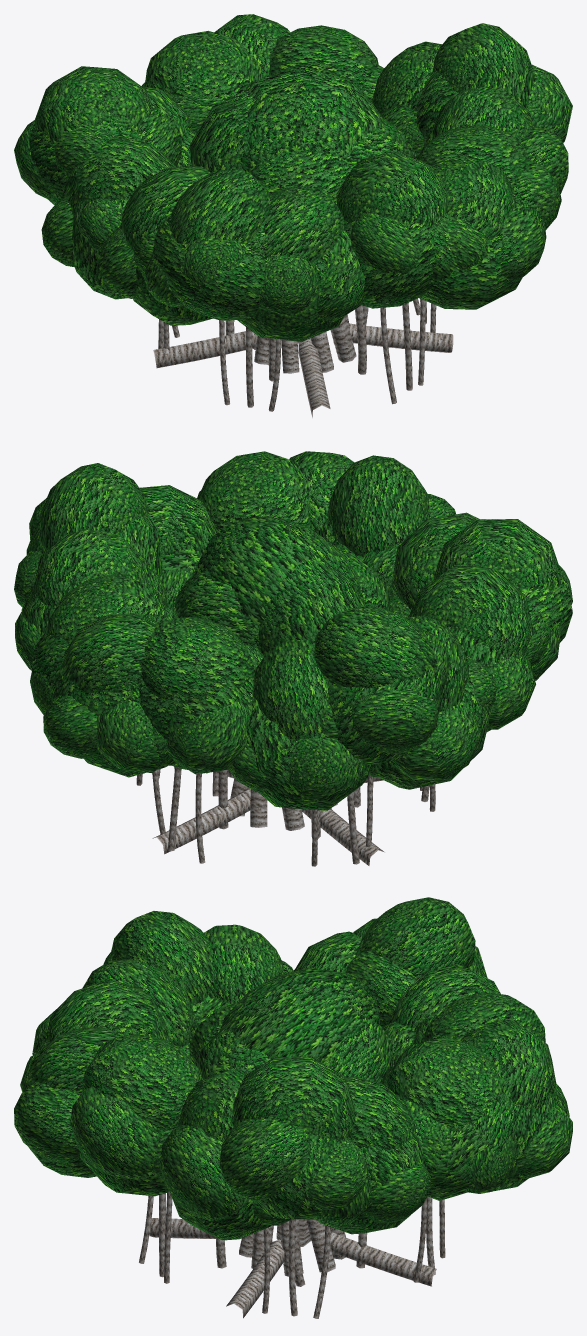
File: banyan-standard-textured.glb
3 renders of one model, top to bottom at view 1: azimuth 30°, elevation 25°; view 2: azimuth 150°, elevation 25°; view 3: azimuth 270°, elevation 25°, orthographic. The views are drawn at different scales.
Visible parts, largest first — view 1: Mesh_CenterFoliage_0, Mesh_Right_1_Fol_5, Mesh_Limb_3_Fol_5, Mesh_Left_4_Fol_5, Mesh_Limb_2_Fol_5, Mesh_Limb_2_Fol_0, Mesh_Limb_0_Fol_5, Mesh_Left_2_Fol_5, Mesh_Left_3_Fol_5, Mesh_Limb_1_Fol_5, Mesh_Right_4_Fol_5, Mesh_Left_1_Fol_5 (+47 smaller); view 2: Mesh_CenterFoliage_0, Mesh_Limb_3_Fol_5, Mesh_Right_1_Fol_5, Mesh_Left_4_Fol_5, Mesh_Right_2_Fol_5, Mesh_Left_1_Fol_5, Mesh_Limb_0_Fol_5, Mesh_Limb_2_Fol_5, Mesh_Right_3_Fol_5, Mesh_Limb_4_Fol_5, Mesh_CenterFoliage_2, Mesh_Left_0_Fol_5 (+41 smaller); view 3: Mesh_CenterFoliage_0, Mesh_Limb_0_Fol_5, Mesh_Right_4_Fol_5, Mesh_Left_1_Fol_5, Mesh_Limb_3_Fol_5, Mesh_Left_1_Fol_1, Mesh_Limb_0_Fol_1, Mesh_Limb_2_Fol_5, Mesh_Right_0_Fol_1, Mesh_Limb_4_Fol_5, Mesh_Right_1_Fol_5, Mesh_Right_2_Fol_5 (+34 smaller).
Part boxes in pixels (x1,y1,x2,y2): Mesh_CenterFoliage_0: (239,66,385,173); Mesh_Right_1_Fol_5: (336,151,448,226); Mesh_Limb_3_Fol_5: (34,66,153,143); Mesh_Left_4_Fol_5: (145,30,261,100); Mesh_Limb_2_Fol_5: (170,168,270,244); Mesh_Limb_2_Fol_0: (152,214,267,320); Mesh_Limb_0_Fol_5: (432,23,534,108); Mesh_Left_2_Fol_5: (263,186,343,262); Mesh_Left_3_Fol_5: (63,135,175,207); Mesh_Limb_1_Fol_5: (429,154,516,240); Mesh_Right_4_Fol_5: (269,25,378,86); Mesh_Left_1_Fol_5: (417,125,531,192); Mesh_CenterFoliage_0: (197,516,364,624); Mesh_Limb_3_Fol_5: (314,606,437,688); Mesh_Right_1_Fol_5: (327,455,429,555); Mesh_Left_4_Fol_5: (140,616,255,704); Mesh_Right_2_Fol_5: (410,564,533,657); Mesh_Left_1_Fol_5: (197,451,311,532); Mesh_Limb_0_Fol_5: (39,463,147,552); Mesh_Limb_2_Fol_5: (433,519,561,589); Mesh_Right_3_Fol_5: (253,639,328,740); Mesh_Limb_4_Fol_5: (59,614,159,692); Mesh_CenterFoliage_2: (258,558,364,656); Mesh_Left_0_Fol_5: (32,529,148,608); Mesh_CenterFoliage_0: (219,968,379,1063); Mesh_Limb_0_Fol_5: (233,1056,355,1141); Mesh_Right_4_Fol_5: (386,1037,505,1127); Mesh_Left_1_Fol_5: (81,1034,202,1131); Mesh_Limb_3_Fol_5: (361,897,475,978); Mesh_Left_1_Fol_1: (70,1086,159,1179); Mesh_Limb_0_Fol_1: (219,1118,310,1200); Mesh_Limb_2_Fol_5: (109,911,213,1003); Mesh_Right_0_Fol_1: (159,1125,245,1221); Mesh_Limb_4_Fol_5: (460,1019,556,1109); Mesh_Right_1_Fol_5: (45,979,167,1041); Mesh_Right_2_Fol_5: (204,924,283,1004).
Bounding box in the file's own units: 9.37 × 5.47 × 9.46.
Materials: 2 (2 with a texture image).
